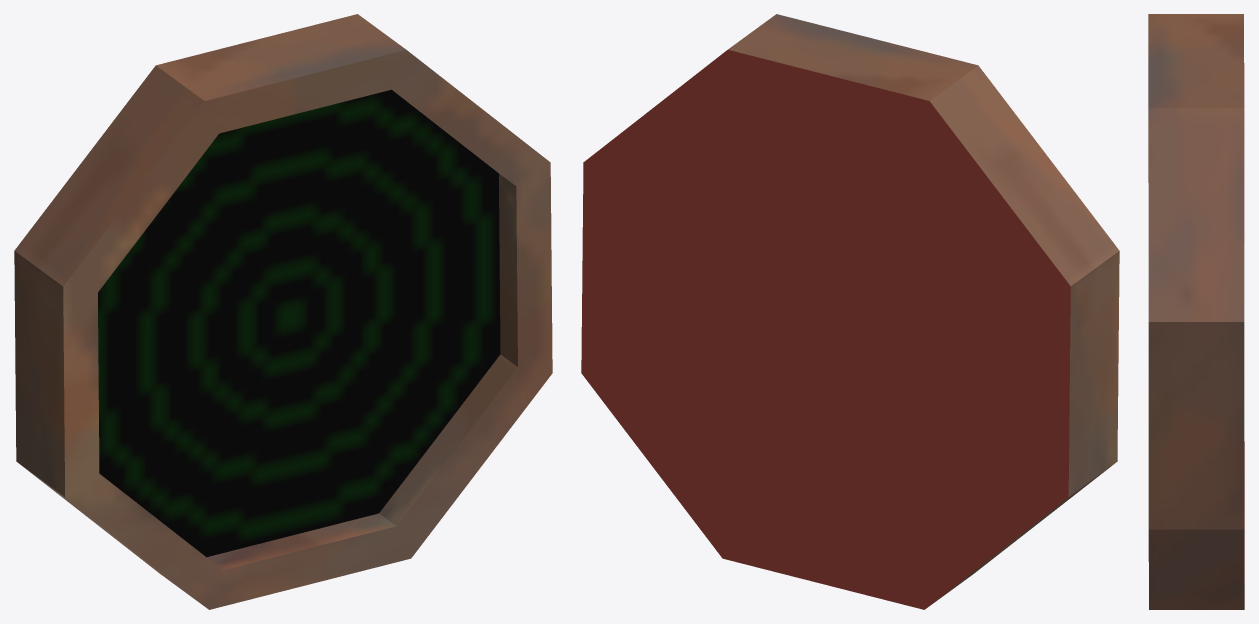
Rendered from Sonar (1).fbx.
3 renders of one model, left to right at view 1: azimuth 30°, elevation 25°; view 2: azimuth 150°, elevation 25°; view 3: azimuth 270°, elevation 25°, orthographic. The views are drawn at different scales.
Visible parts, largest first — view 1: Sonar; view 2: Sonar; view 3: Sonar.
Part boxes in pixels (x1,y1,x2,y2): Sonar: (14,14,552,609); Sonar: (581,14,1119,609); Sonar: (1148,14,1244,609).
Size of the model in its own units: 0.1509 by 0.151 by 0.0262.
1 material, 1 textured.
